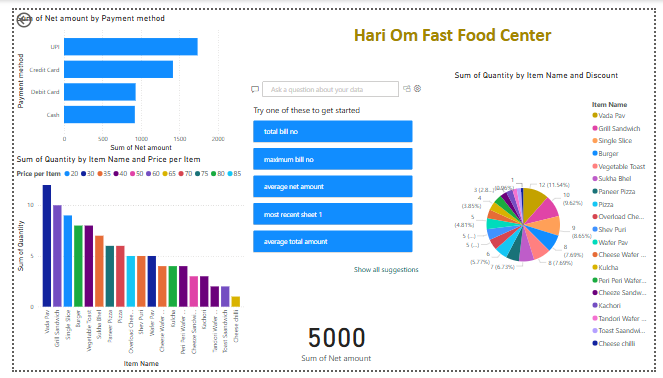

Layout of this report page (visuals, bound fields, positions):
{"tool":"powerbi","page":{"name":"Page 1","canvas":[1280,720],"ordinal":0},"visuals":[{"type":"columnChart","fields":{"Category":["Sheet1.Item Name"],"Y":["Sum(Sheet1.Quantity)"],"Series":["Sheet1.Price per Item"]},"box":[0,288.9,465.3,431.7],"z":0},{"type":"card","fields":{"Values":["Sum(Sheet1.Net amount)"]},"box":[466,596,356,124],"z":1000},{"type":"barChart","fields":{"Category":["Sheet1.Payment method"],"Y":["Sum(Sheet1.Net amount)"]},"box":[0,6,426,282],"z":2000},{"type":"pieChart","fields":{"Category":["Sheet1.Item Name"],"Y":["Sum(Sheet1.Quantity)"],"Series":["Sheet1.Discount "]},"box":[876,120,404,600],"z":3000},{"type":"actionButton","box":[0,0,100,40],"z":4000},{"type":"qnaVisual","box":[466,118,356,478],"z":5000},{"type":"textbox","box":[588,20,578,70],"z":5001}]}

Visuals, with their boxes in screenshot pixels (x1, y1, x2, y2), scaled from the page's 1280x720 canvas onto the 663x378 screenshot:
columnChart - Sheet1.Item Name x Sum(Sheet1.Quantity): detection(0, 152, 241, 377)
card - Sum(Sheet1.Net amount): detection(241, 313, 426, 377)
barChart - Sheet1.Payment method x Sum(Sheet1.Net amount): detection(0, 3, 221, 151)
pieChart - Sheet1.Item Name x Sum(Sheet1.Quantity): detection(454, 63, 662, 377)
actionButton: detection(0, 0, 52, 21)
qnaVisual: detection(241, 62, 426, 313)
textbox: detection(305, 10, 604, 47)
